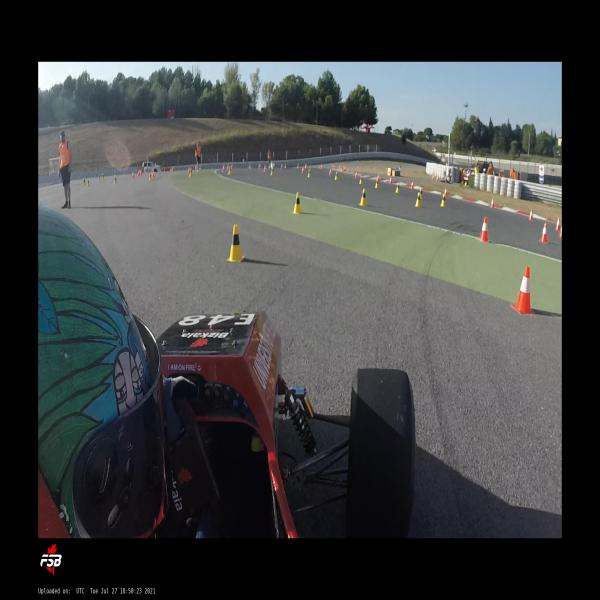orange_cone: (510, 266, 535, 315), (478, 216, 490, 242), (539, 222, 548, 244), (555, 216, 560, 230), (528, 209, 533, 221), (559, 223, 562, 238), (444, 187, 448, 197), (490, 198, 494, 208), (328, 168, 332, 176), (354, 171, 358, 178), (410, 182, 414, 189), (301, 166, 304, 174), (389, 177, 392, 184), (377, 174, 379, 181), (132, 173, 134, 178), (153, 171, 154, 177)
yellow_cone: (226, 224, 244, 264), (292, 191, 302, 214), (359, 188, 366, 207), (415, 193, 421, 207), (440, 194, 446, 207), (395, 181, 399, 194), (374, 178, 378, 189), (334, 171, 338, 181), (419, 187, 422, 199), (359, 175, 363, 184), (307, 169, 311, 178), (270, 167, 274, 176), (189, 168, 192, 177), (114, 176, 117, 184), (149, 174, 152, 180), (87, 180, 90, 186), (102, 174, 104, 182), (229, 167, 231, 174), (98, 175, 100, 182), (82, 180, 84, 185)
